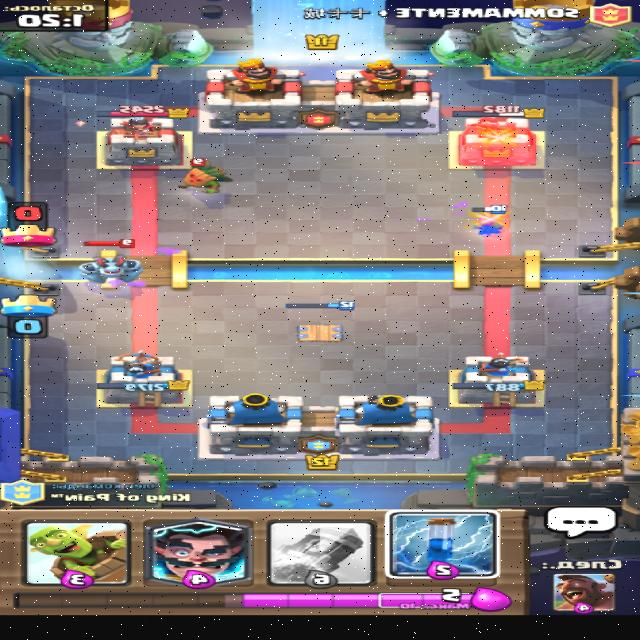Enemy-DartGoblin: (177, 157, 238, 193)
Enemy-MegaMinion: (80, 238, 146, 284)
Player-Archer: (467, 204, 515, 238)
Player-Tesla-Hidden: (285, 299, 358, 344)
